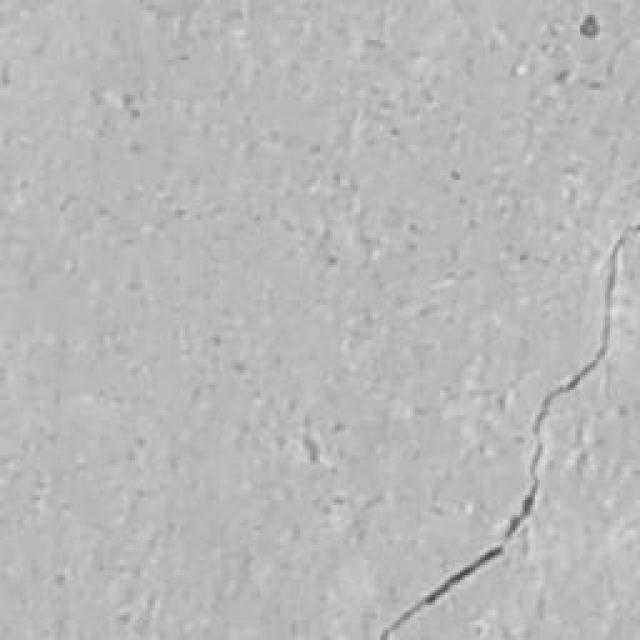concrete-crack: (393, 221, 640, 635)
